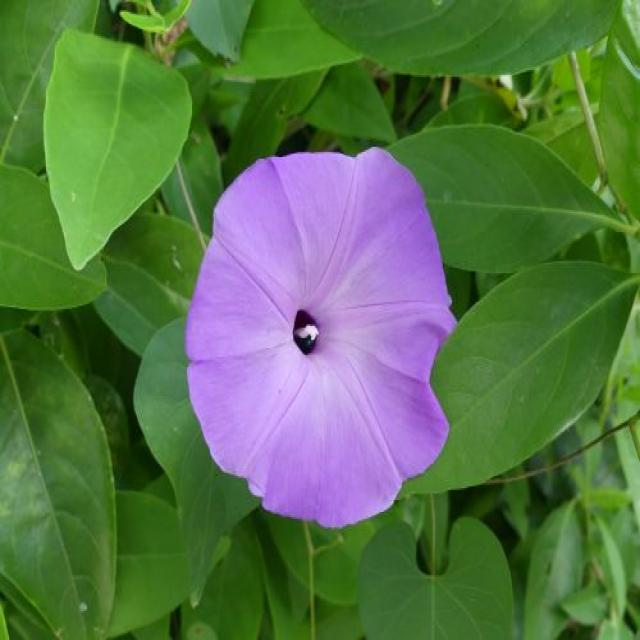ipomoea: (180, 142, 460, 532)
